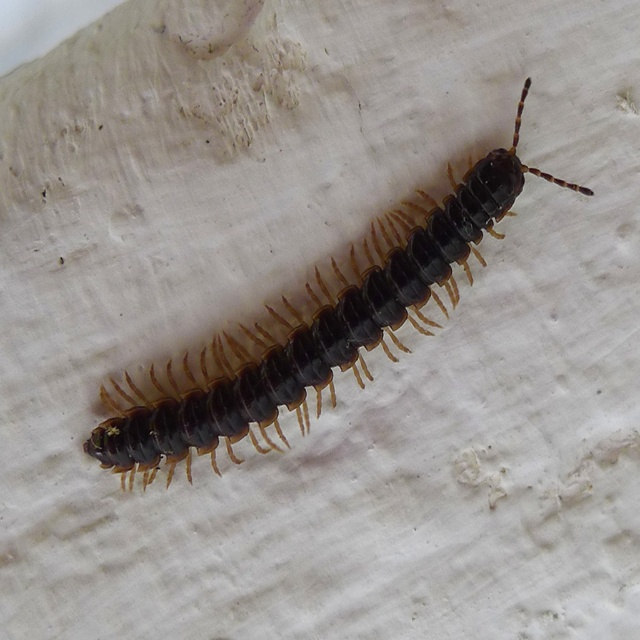Centipede: (83, 77, 596, 498)
